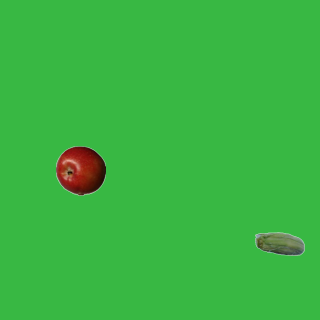Apple Braeburn: (55, 145, 105, 195)
Corn Husk: (254, 220, 304, 270)
